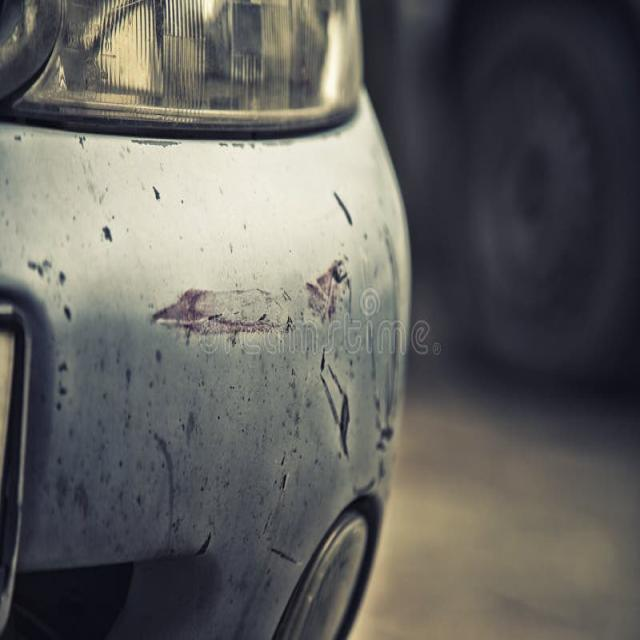scratch: (0, 88, 410, 633)
